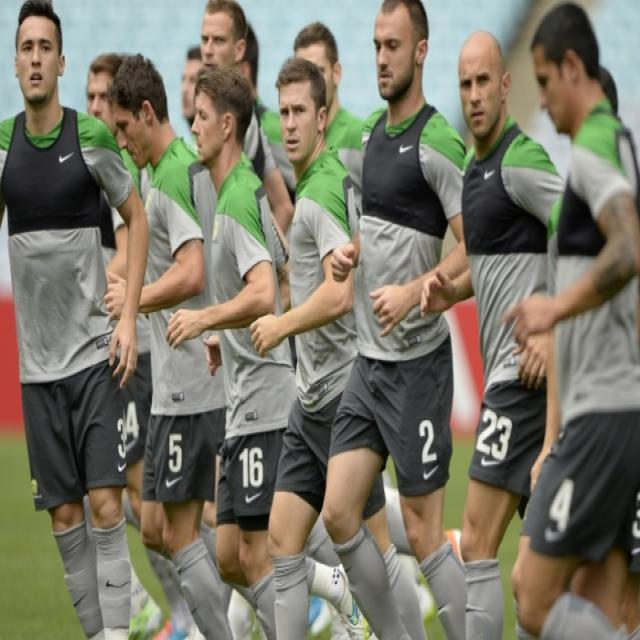body: (272, 19, 466, 585), (247, 56, 429, 640), (320, 0, 473, 640), (0, 0, 150, 639), (416, 26, 570, 640), (499, 0, 640, 640), (104, 56, 244, 640), (164, 64, 298, 640), (84, 50, 172, 638), (190, 0, 296, 247), (245, 21, 300, 198), (598, 60, 635, 149), (624, 492, 640, 640), (178, 41, 200, 127)
